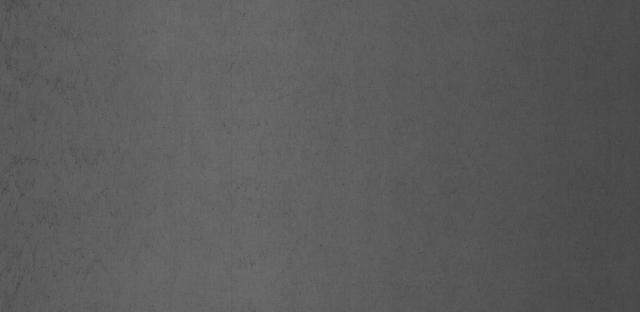silk_spot: (1, 44, 141, 277)
